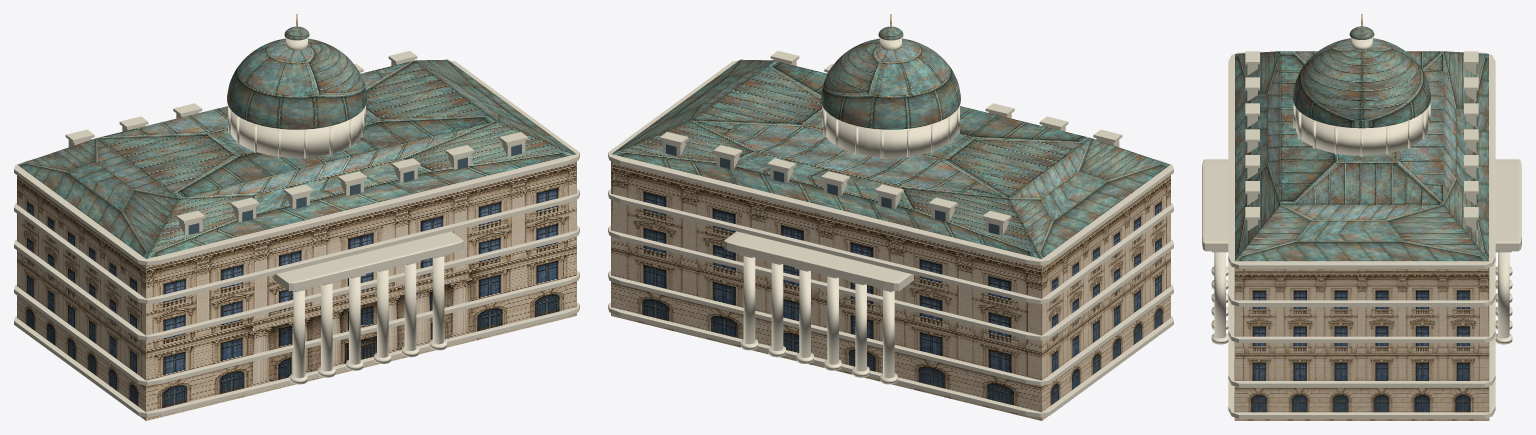
The model's file is hsbc-lod0.glb.
3 views of the same model, side by side, from view 1: azimuth 30°, elevation 25°; view 2: azimuth 150°, elevation 25°; view 3: azimuth 270°, elevation 25° (orthographic).
Parts seen in each view (by area): view 1: hsbc_architecture; view 2: hsbc_architecture; view 3: hsbc_architecture.
Part boxes in pixels (left/top/right/bottom): hsbc_architecture: left=14, top=14, right=579, bottom=420; hsbc_architecture: left=608, top=14, right=1173, bottom=420; hsbc_architecture: left=1202, top=14, right=1521, bottom=420.
Bounding box in the file's own units: 27.7 × 18.4 × 17.6.
Materials: 7 (4 with a texture image).
